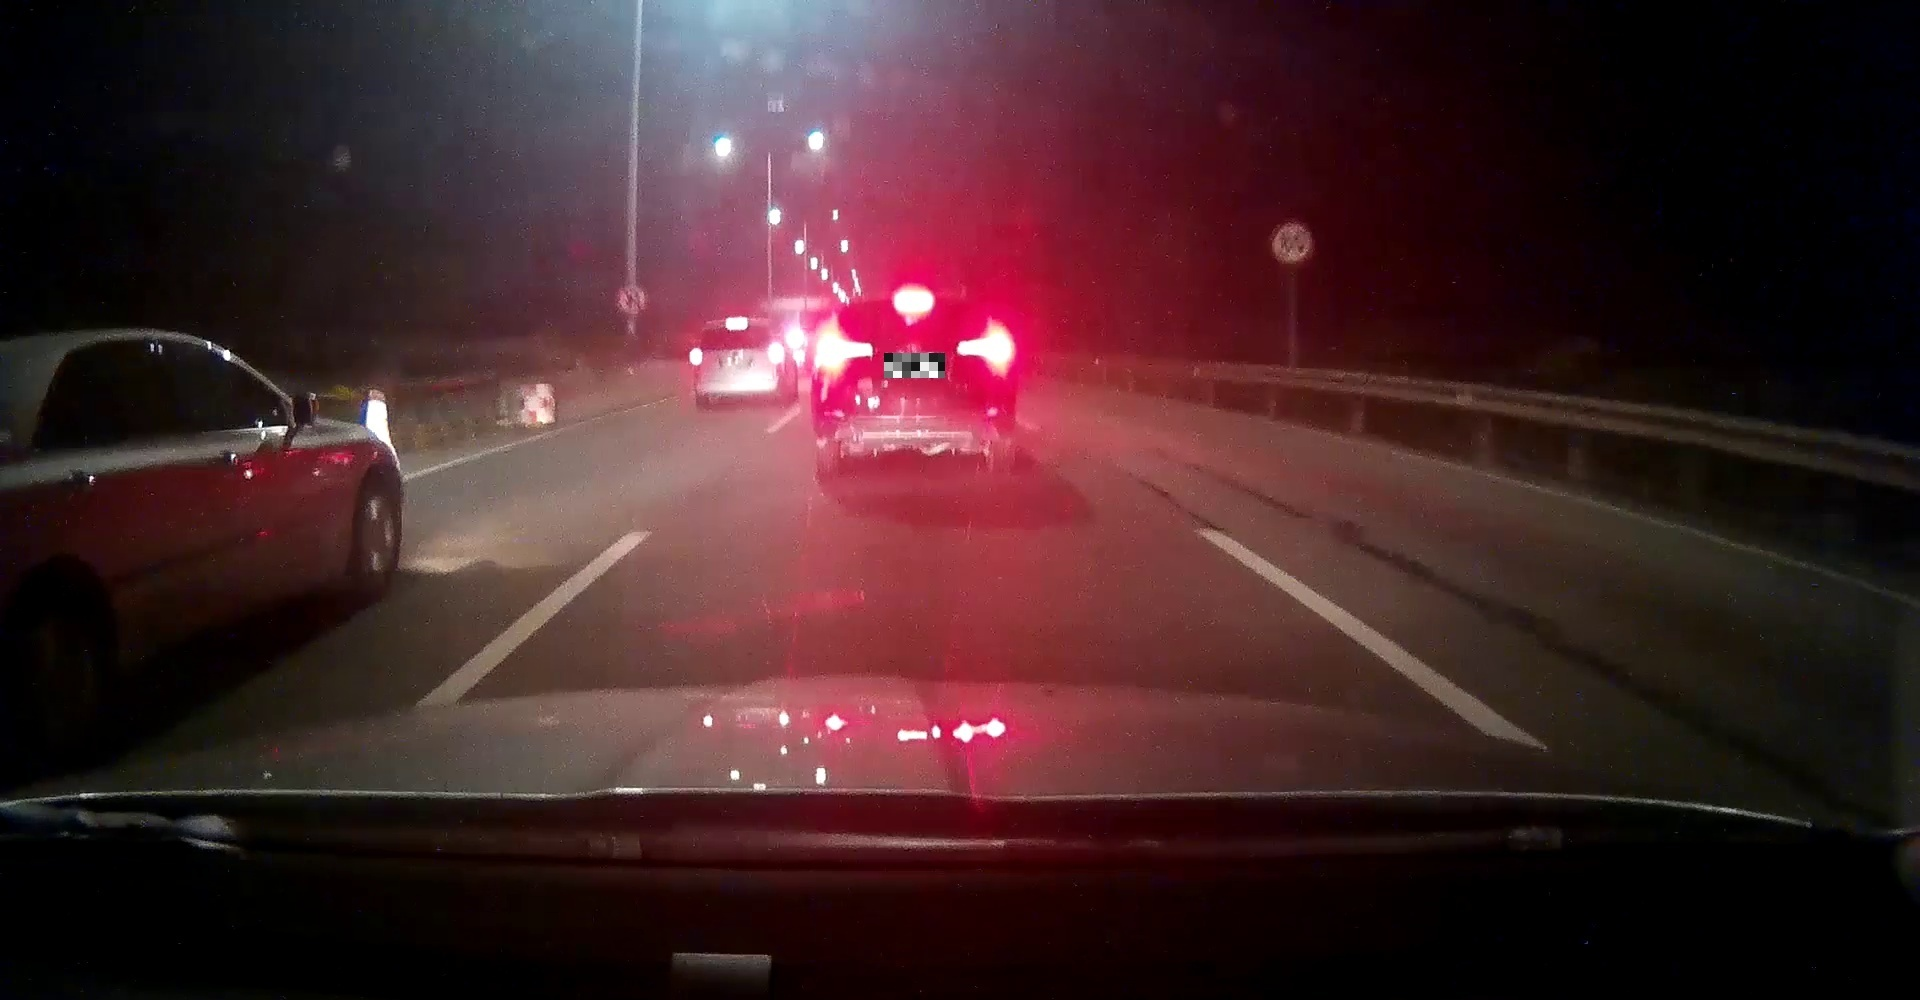L_light: (814, 335, 872, 368), (693, 350, 702, 365)
R_light: (957, 334, 1015, 363), (773, 346, 783, 362)
T_light: (897, 293, 932, 305), (726, 320, 747, 326)
night-brake: (810, 287, 1016, 477), (692, 316, 785, 409)
plate_1: (884, 353, 945, 378)
